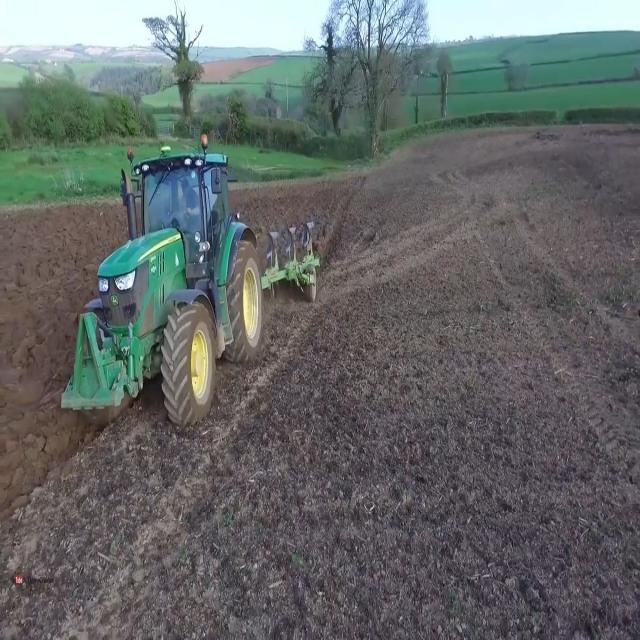Vehicle: (61, 118, 324, 433)
